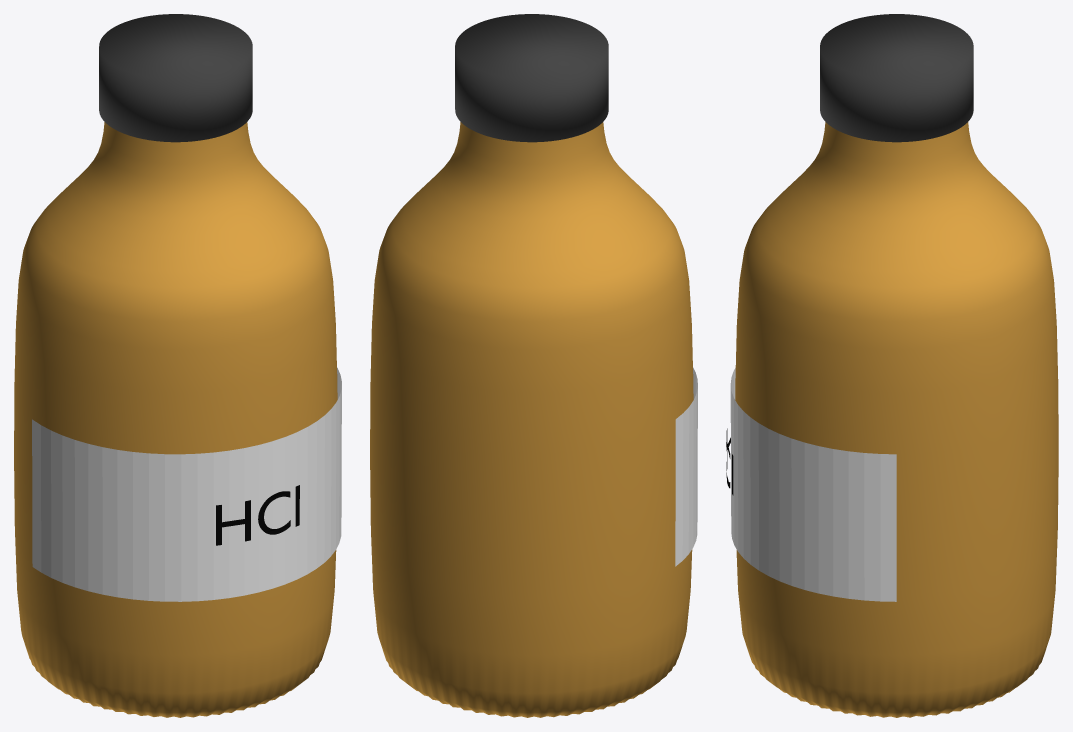
Rendered from HCl.glb.
3 renders of one model, left to right at view 1: azimuth 30°, elevation 25°; view 2: azimuth 150°, elevation 25°; view 3: azimuth 270°, elevation 25°, orthographic.
Parts seen in each view (by area): view 1: Chai_HCl, Nhan_Dan, Nap_Chai, Text_HCl; view 2: Chai_HCl, Nap_Chai, Nhan_Dan; view 3: Chai_HCl, Nhan_Dan, Nap_Chai.
Boxes of the visible parts, x1=… form: Chai_HCl: x1=14, y1=122, x2=337, y2=717; Nhan_Dan: x1=32, y1=367, x2=341, y2=601; Nap_Chai: x1=99, y1=14, x2=252, y2=142; Text_HCl: x1=216, y1=485, x2=299, y2=545; Chai_HCl: x1=370, y1=122, x2=693, y2=717; Nap_Chai: x1=455, y1=14, x2=608, y2=142; Nhan_Dan: x1=675, y1=367, x2=697, y2=566; Chai_HCl: x1=735, y1=122, x2=1058, y2=717; Nhan_Dan: x1=730, y1=368, x2=896, y2=601; Nap_Chai: x1=820, y1=14, x2=973, y2=142.
Bounding box in the file's own units: 0.0713 × 0.1474 × 0.0714.
